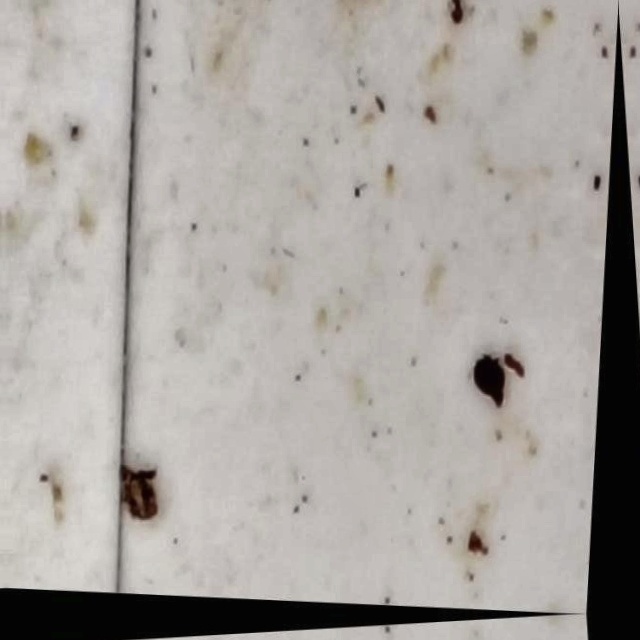varroa: (474, 358, 510, 399)
